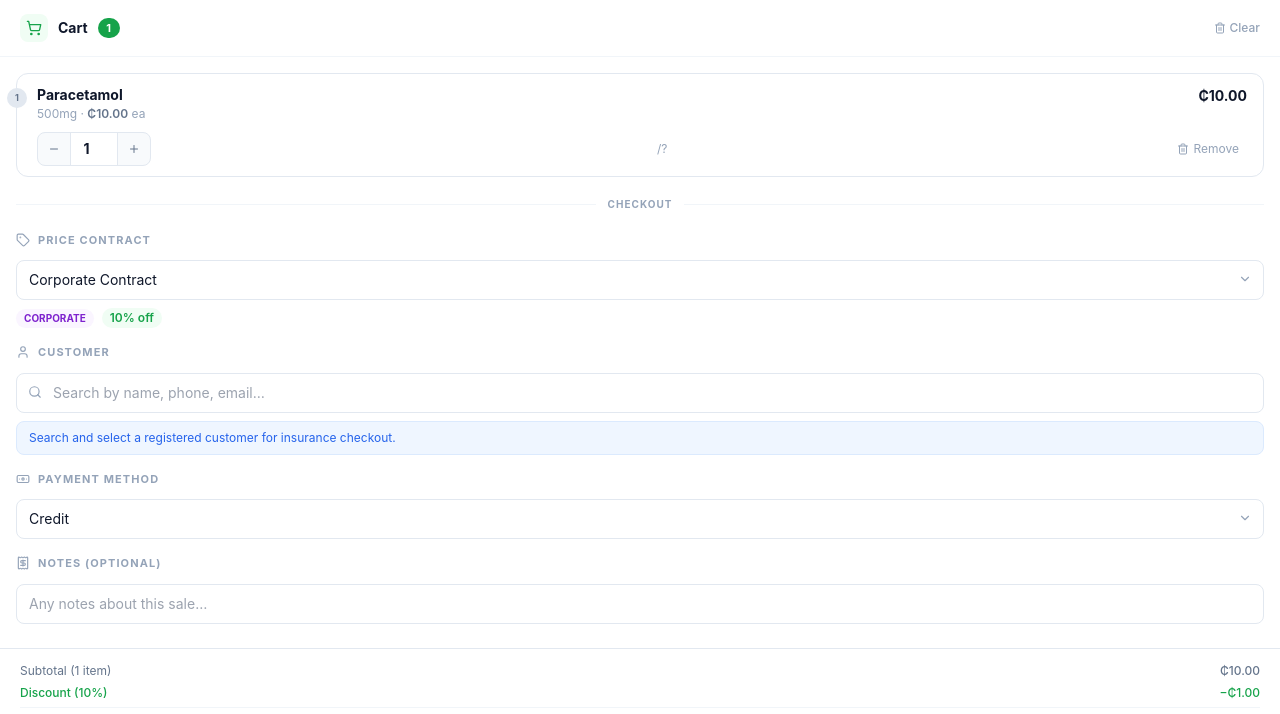
Test: CartPanel customer search › keeps local customer results when the online API returns no matches
Type "cass" into the field with placeholder "Search by name, phone, email…" at x=640, y=392, box [16,372,1264,412]
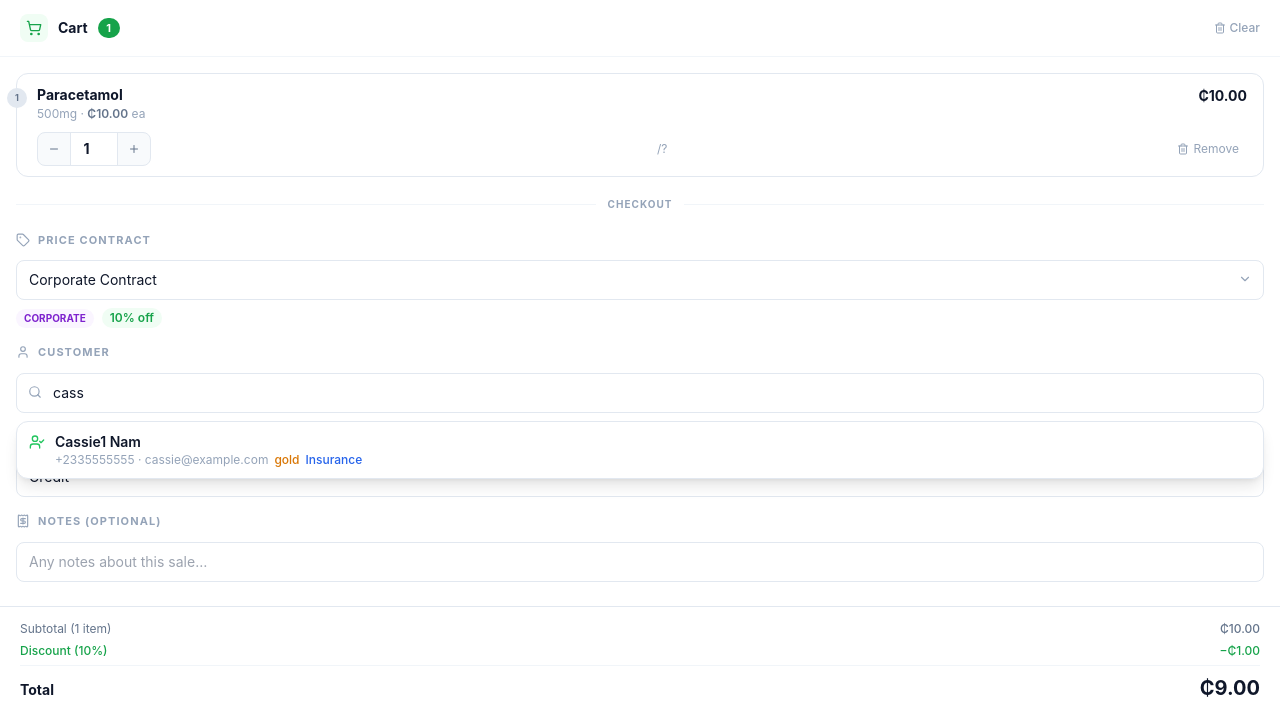
Check: the text "Cassie1 Nam" is shown, box [55,432,141,450]
